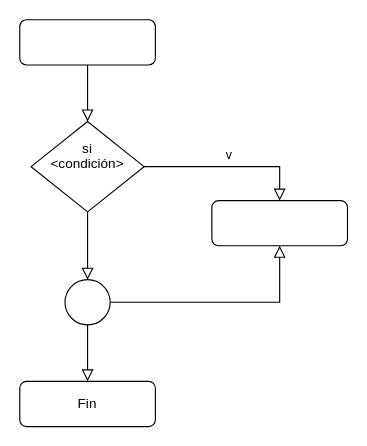
This 367x446 diagram has some shape labels left out. The centre of each missing label's shape, as x and y in pixels:
"Inicio" belongs at (x=87, y=42).
"Proceso" belongs at (x=279, y=222).
